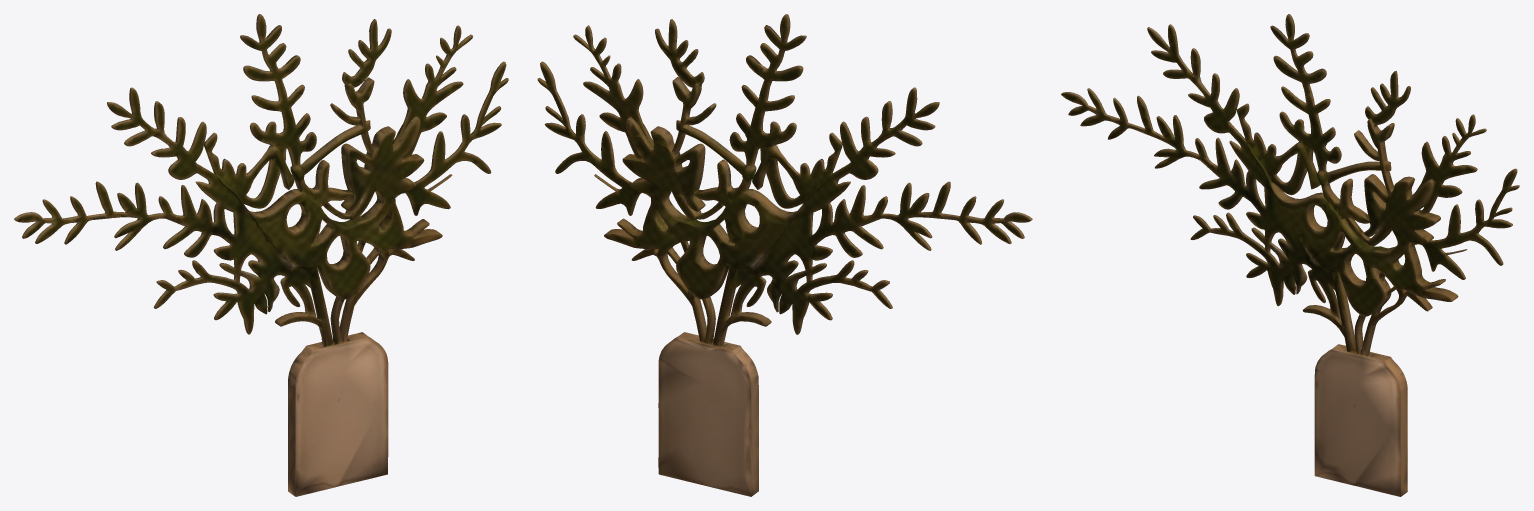
Rendered from plant-vase.glb.
3 renders of one model, left to right at view 1: azimuth 30°, elevation 25°; view 2: azimuth 150°, elevation 25°; view 3: azimuth 330°, elevation 25°, orthographic. The views are drawn at different scales.
Bounding box in the file's own units: 1.89 × 1.78 × 0.0524.
Materials: 1 (1 with a texture image).
